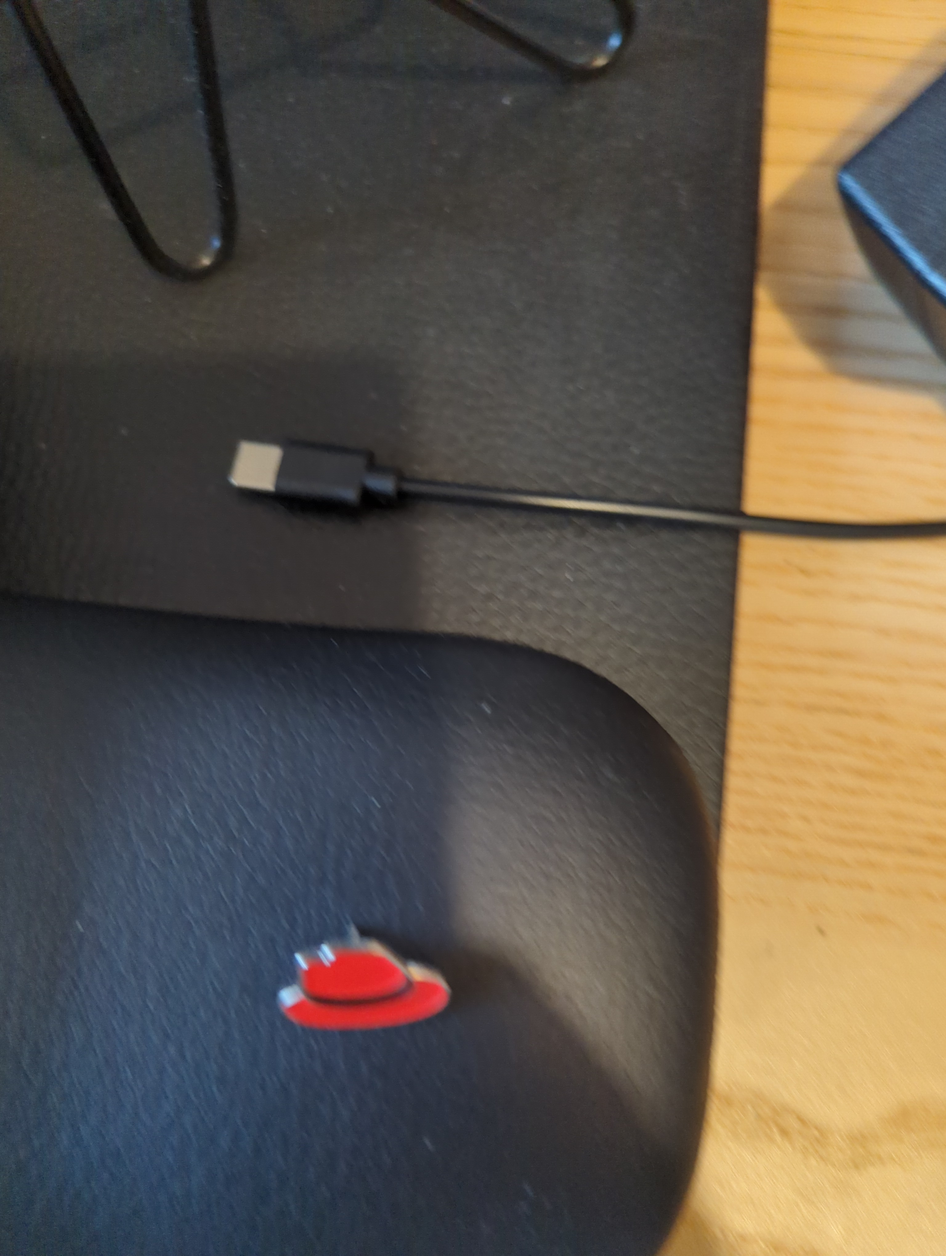Red-Hat: (229, 885, 488, 1090)
